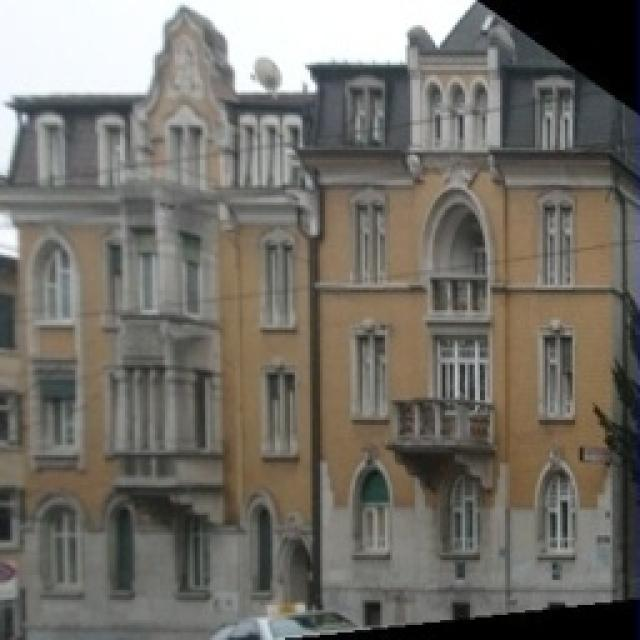building: (320, 2, 640, 640), (0, 5, 312, 640)
